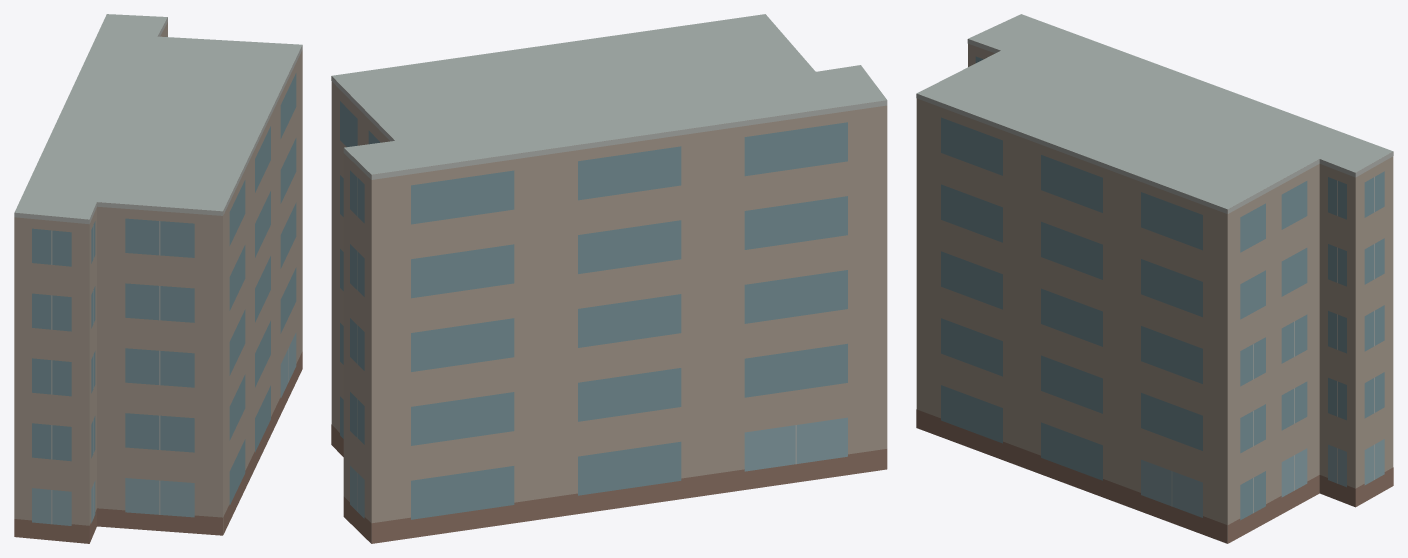
Rendered from survey-upis-32992798.glb.
3 renders of one model, left to right at view 1: azimuth 30°, elevation 25°; view 2: azimuth 150°, elevation 25°; view 3: azimuth 270°, elevation 25°, orthographic. The views are drawn at different scales.
Parts seen in each view (by area): view 1: survey-upis-32992798.tmp; view 2: survey-upis-32992798.tmp; view 3: survey-upis-32992798.tmp.
Part boxes in pixels (<box>): survey-upis-32992798.tmp: <box>14,14,302,543</box>; survey-upis-32992798.tmp: <box>331,14,887,543</box>; survey-upis-32992798.tmp: <box>916,14,1393,543</box>.
Bounding box in the file's own units: 21.43 × 17.1 × 22.11.
